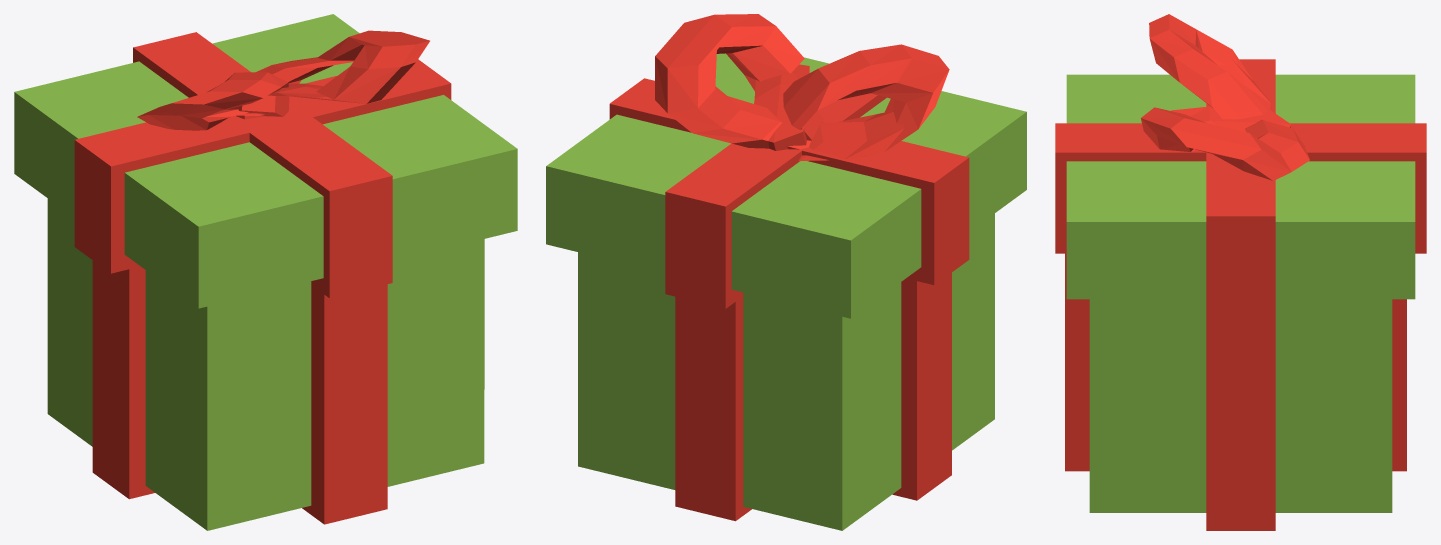
The model's file is present-1.glb.
3 views of the same model, side by side, from view 1: azimuth 30°, elevation 25°; view 2: azimuth 150°, elevation 25°; view 3: azimuth 270°, elevation 25° (orthographic). The views are drawn at different scales.
Visible parts, largest first — view 1: Node.028; view 2: Node.028; view 3: Node.028.
Part boxes in pixels (x1=…): Node.028: x1=14, y1=14, x2=517, y2=530; Node.028: x1=546, y1=14, x2=1026, y2=530; Node.028: x1=1055, y1=14, x2=1426, y2=530.
Size of the model in its own units: 1.13 by 1.3 by 1.13.
